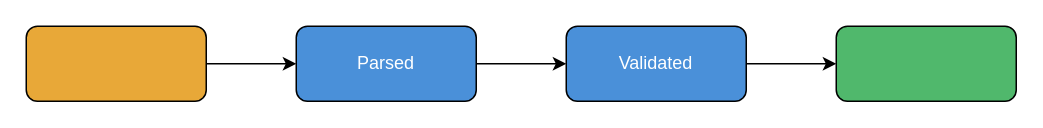
Image size: 1043x128. Some labels were removed from this diagram. The shapes that lost their labels are listed below. From the top down, each one's centre as x and y in pixels, then its label:
At pixel 115 63: "Raw JSON".
At pixel 925 63: "AST".
